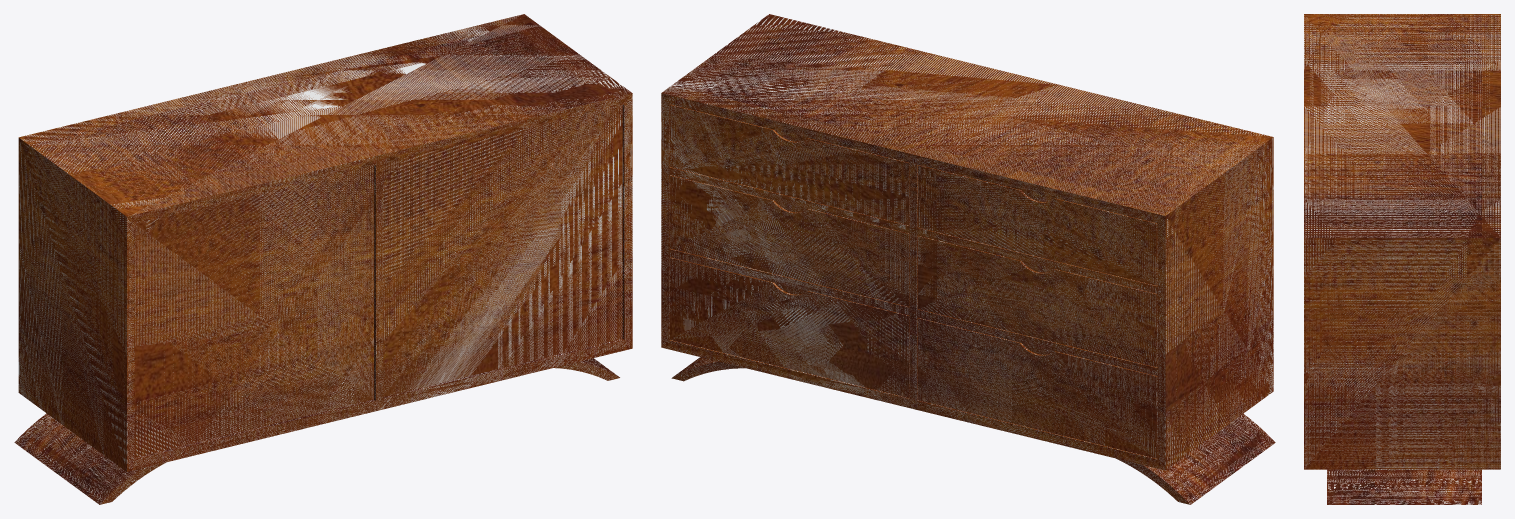
The picture shows the model from 3 angles, left to right: view 1: azimuth 30°, elevation 25°; view 2: azimuth 150°, elevation 25°; view 3: azimuth 270°, elevation 25°; orthographic projection. The views are drawn at different scales.
Parts seen in each view (by area): view 1: mesh5_mesh5-geometry, mesh1_mesh1-geometry, mesh6_mesh6-geometry, mesh2_mesh2-geometry; view 2: mesh5_mesh5-geometry, mesh1_mesh1-geometry, mesh6_mesh6-geometry, mesh2_mesh2-geometry, mesh3_mesh3-geometry; view 3: mesh1_mesh1-geometry, mesh6_mesh6-geometry, mesh3_mesh3-geometry.
Part boxes in pixels (<box>): mesh5_mesh5-geometry: <box>18,138,383,471</box>; mesh1_mesh1-geometry: <box>376,93,632,410</box>; mesh6_mesh6-geometry: <box>19,14,632,216</box>; mesh2_mesh2-geometry: <box>14,413,166,504</box>; mesh5_mesh5-geometry: <box>909,137,1273,470</box>; mesh1_mesh1-geometry: <box>661,93,917,409</box>; mesh6_mesh6-geometry: <box>662,14,1272,215</box>; mesh2_mesh2-geometry: <box>1116,413,1275,504</box>; mesh3_mesh3-geometry: <box>671,357,745,381</box>; mesh1_mesh1-geometry: <box>1304,238,1500,469</box>; mesh6_mesh6-geometry: <box>1304,14,1500,237</box>; mesh3_mesh3-geometry: <box>1327,469,1481,504</box>.
Bounding box in the file's own units: 0.8391 × 0.4523 × 0.3023.
